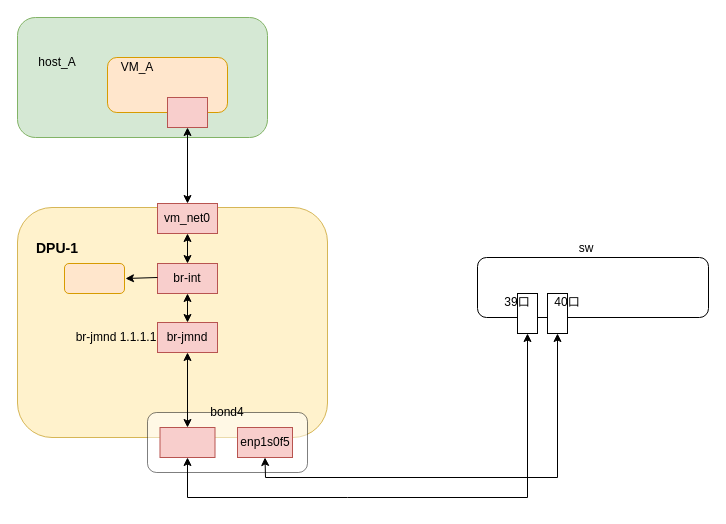
Image size: 726x524. Some labels were removed from this diagram. Here are the shapes that lost their labels. From the top down, the centre of each, then its label:
the point at 187,112: ens5 0000:00:05.0
the point at 94,278: vxlan port
the point at 187,442: enp1s0f4
